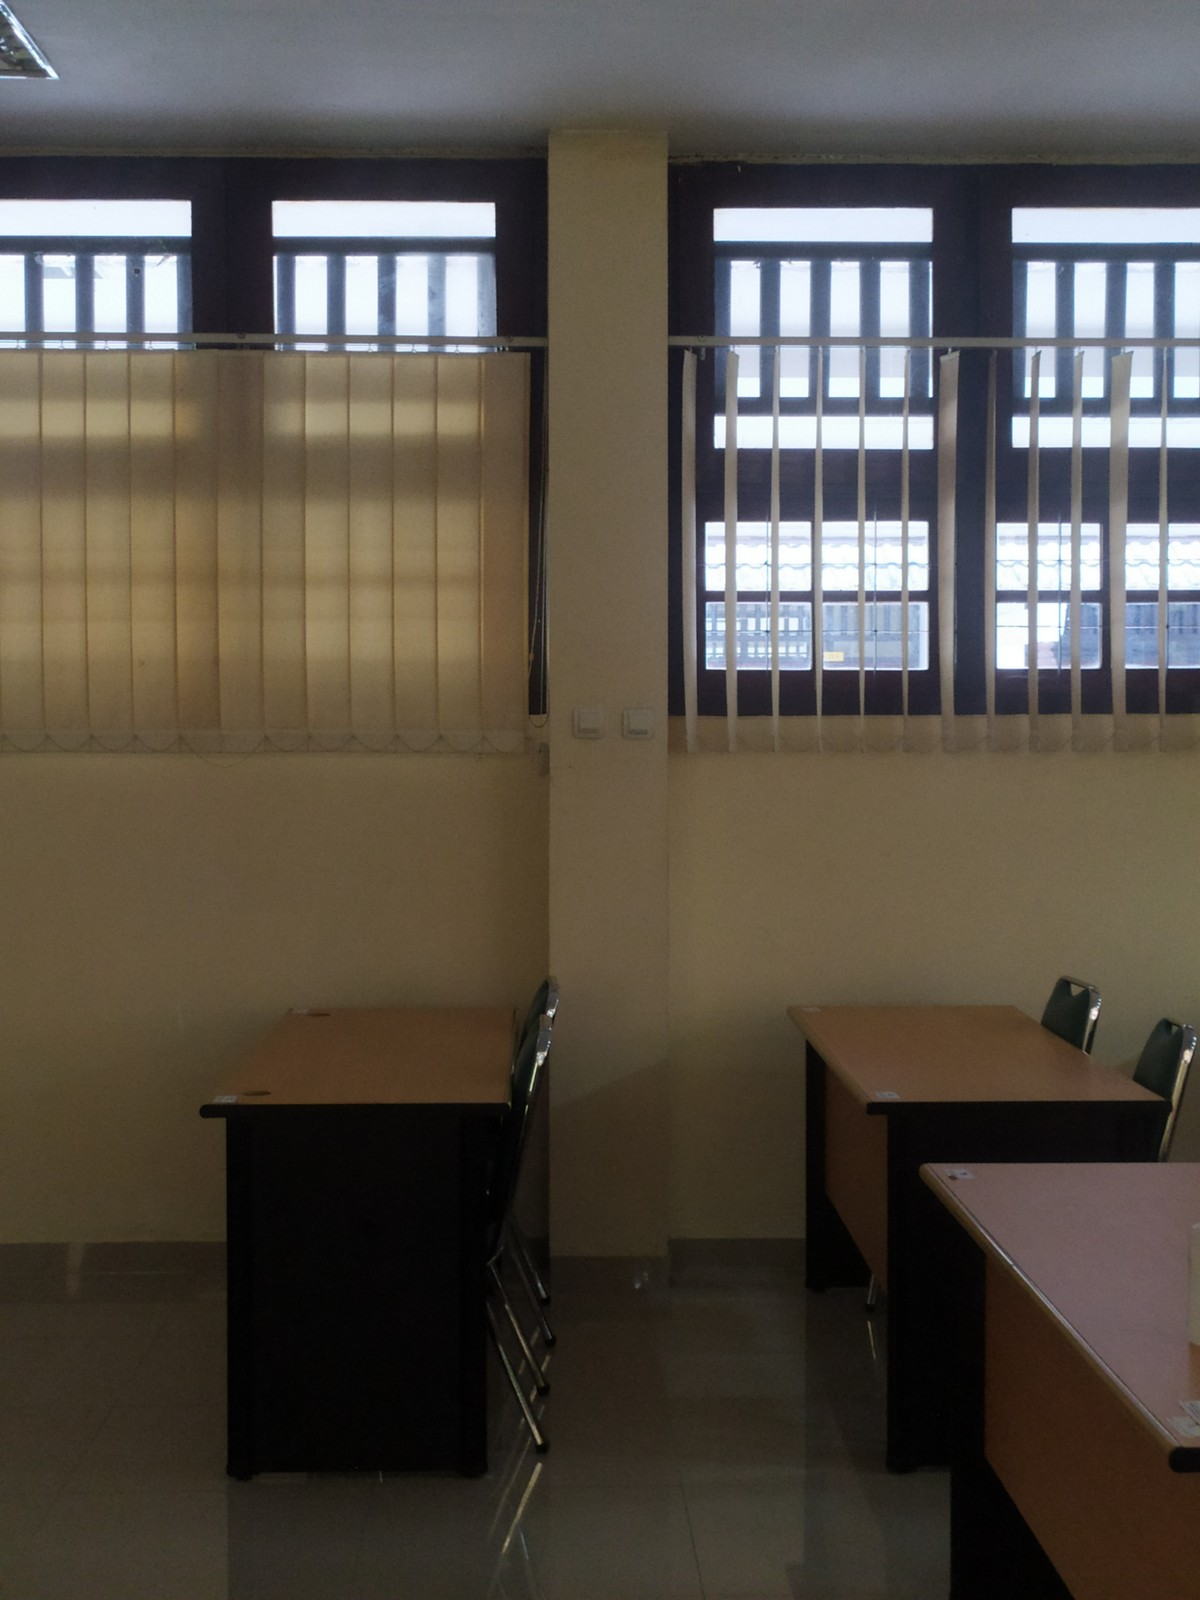concrete column: (529, 118, 682, 1291)
